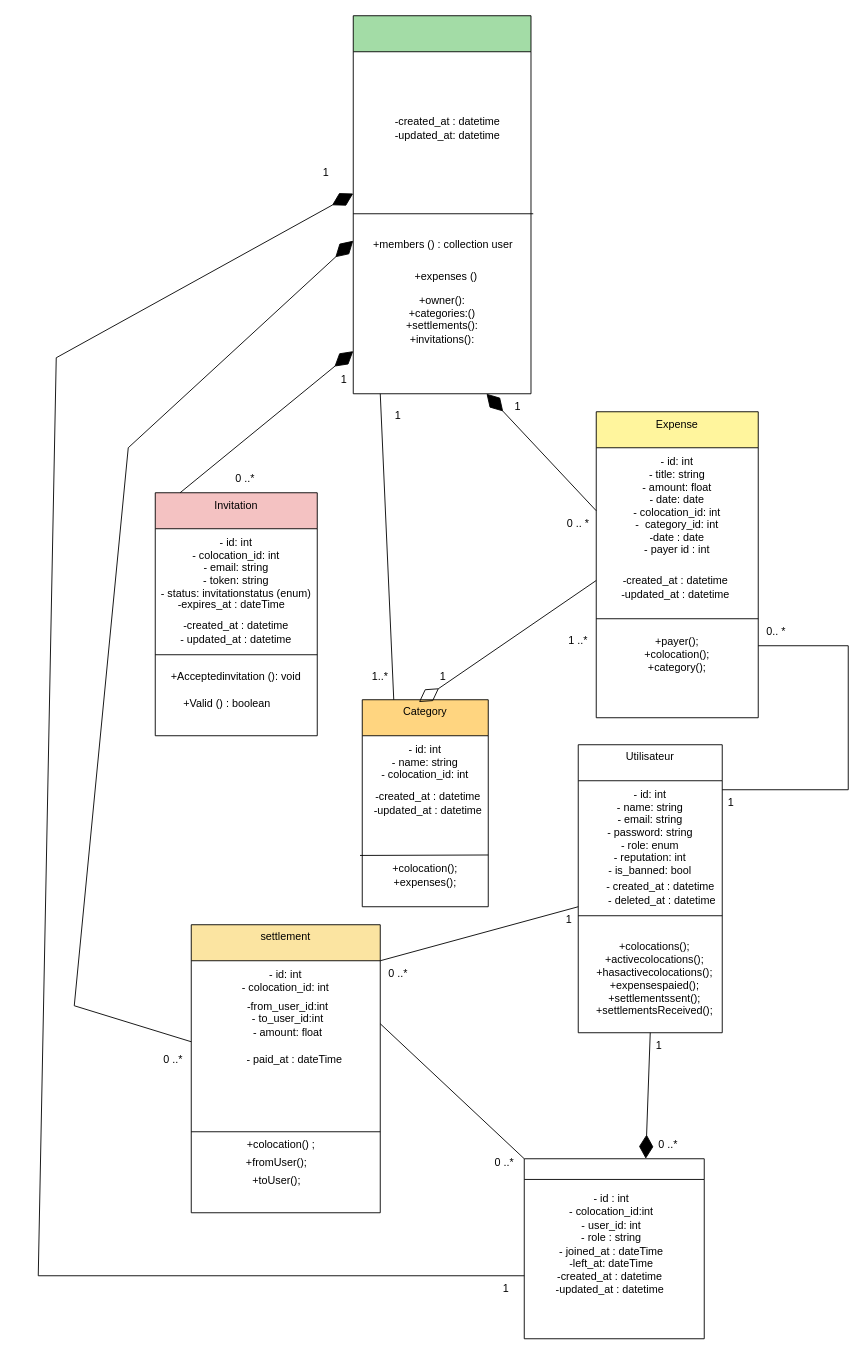
The diagram is 865 pixels wide and 1355 high, and some of its shapes have lost their labels. The box of each missing label's shape, as (x1, y1, x2, y2) in pixels:
Colocation - id: int - name: string - owner_id: int - status: string: (352, 15, 531, 394)
colocation User: (523, 1158, 704, 1339)
